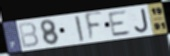8: (39, 18, 60, 47)
B: (17, 21, 41, 50)
E: (107, 9, 133, 38)
F: (84, 10, 104, 43)
I: (73, 15, 86, 43)
J: (133, 7, 150, 34)
